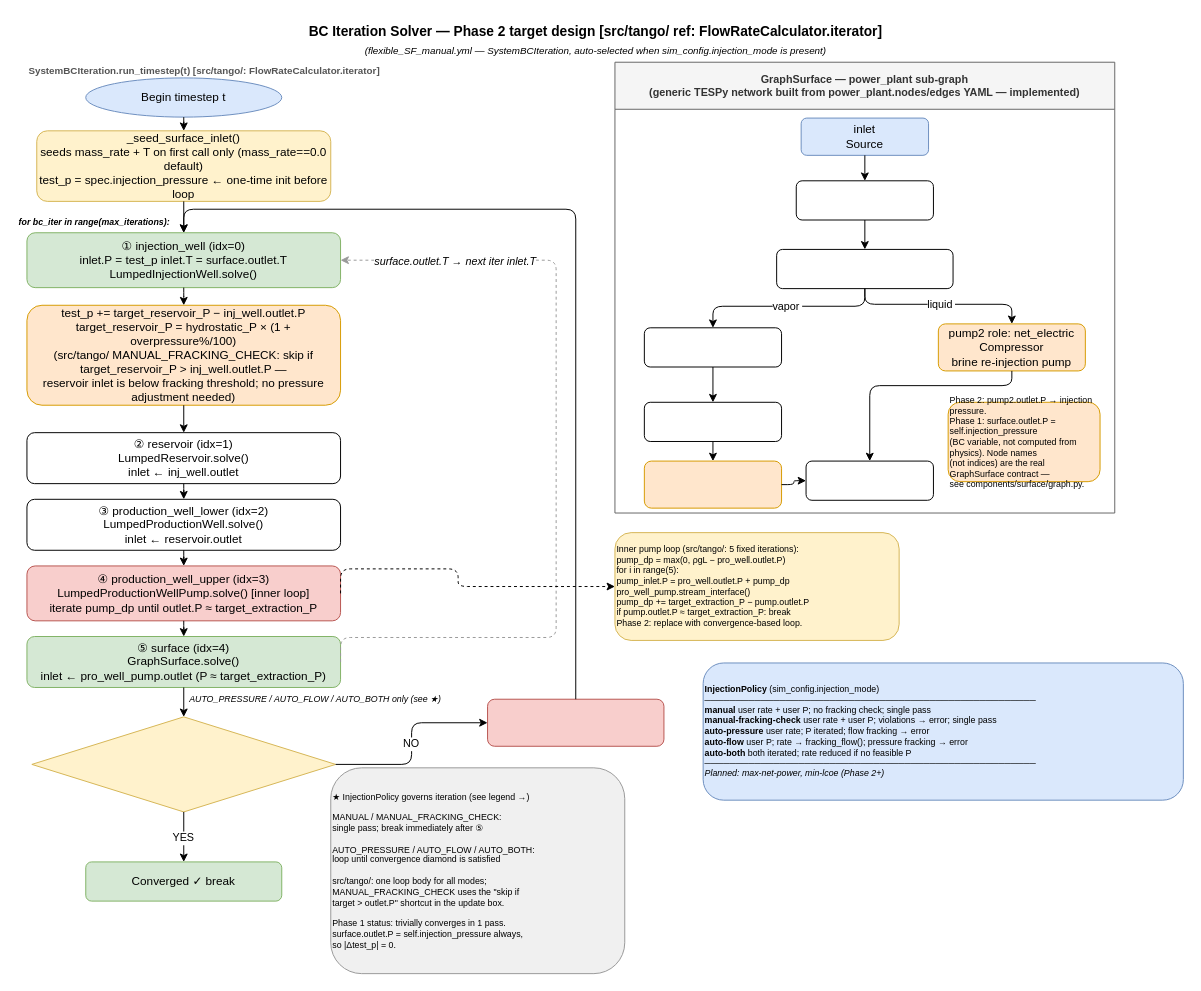
Image size: 1201x991. Some labels were removed from this diagram. Each missing label, with the box of its shape:
condenser SimpleHeatExchanger: (643, 401, 782, 441)
droplet_separator DropletSeparator: (776, 248, 953, 289)
mixer Merge: (805, 460, 933, 500)
prev_test_p = test_p next bc_iter: (487, 698, 664, 746)
pump role: net_electric Compressor condensate pump: (643, 460, 782, 508)
turbine role: net_electric p_out_megapascals: 0.05: (643, 327, 782, 367)
valve p_out_megapascals: 0.5: (795, 180, 933, 220)
|test_p[N] − test_p[N-1]| / test_p[N-1] < tol ? (also: mass_rate) ★: (31, 716, 336, 812)
